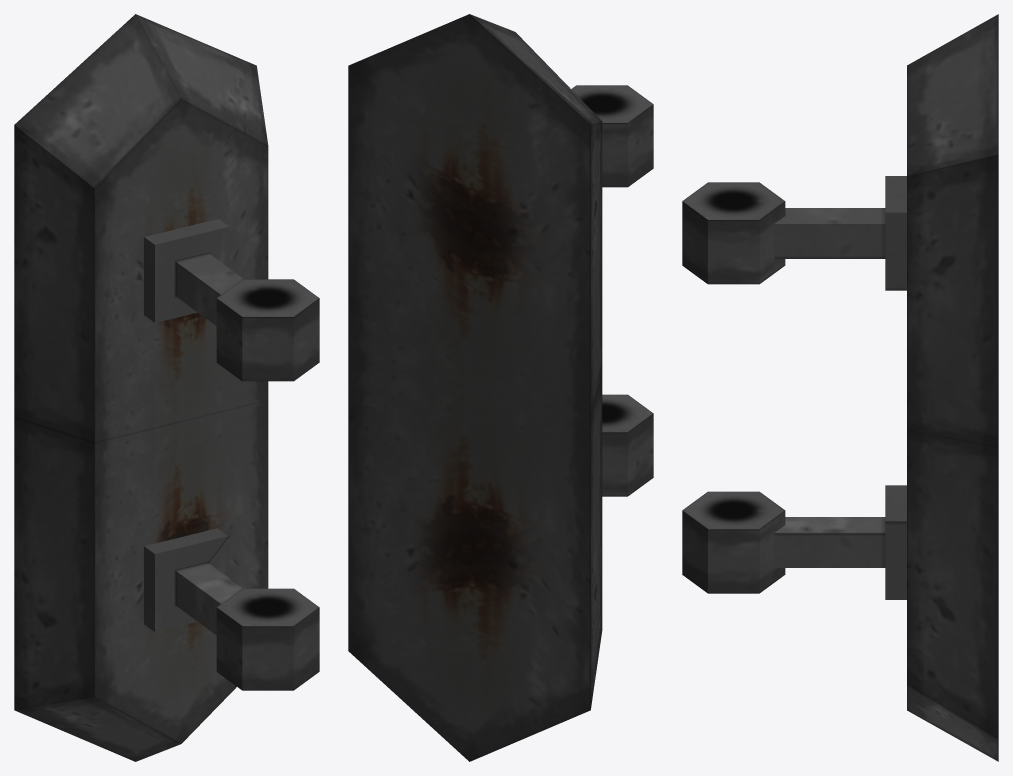
Rendered from TorchSupport0.fbx.
The picture shows the model from 3 angles, left to right: view 1: azimuth 30°, elevation 25°; view 2: azimuth 150°, elevation 25°; view 3: azimuth 270°, elevation 25°; orthographic projection.
Parts seen in each view (by area): view 1: Cylinder.011; view 2: Cylinder.011; view 3: Cylinder.011.
Boxes of the visible parts, x1,y1,x2,y2 form: Cylinder.011: [14, 14, 319, 761]; Cylinder.011: [348, 14, 653, 761]; Cylinder.011: [682, 14, 998, 761].
Bounding box in the file's own units: 789 × 2325 × 892.
